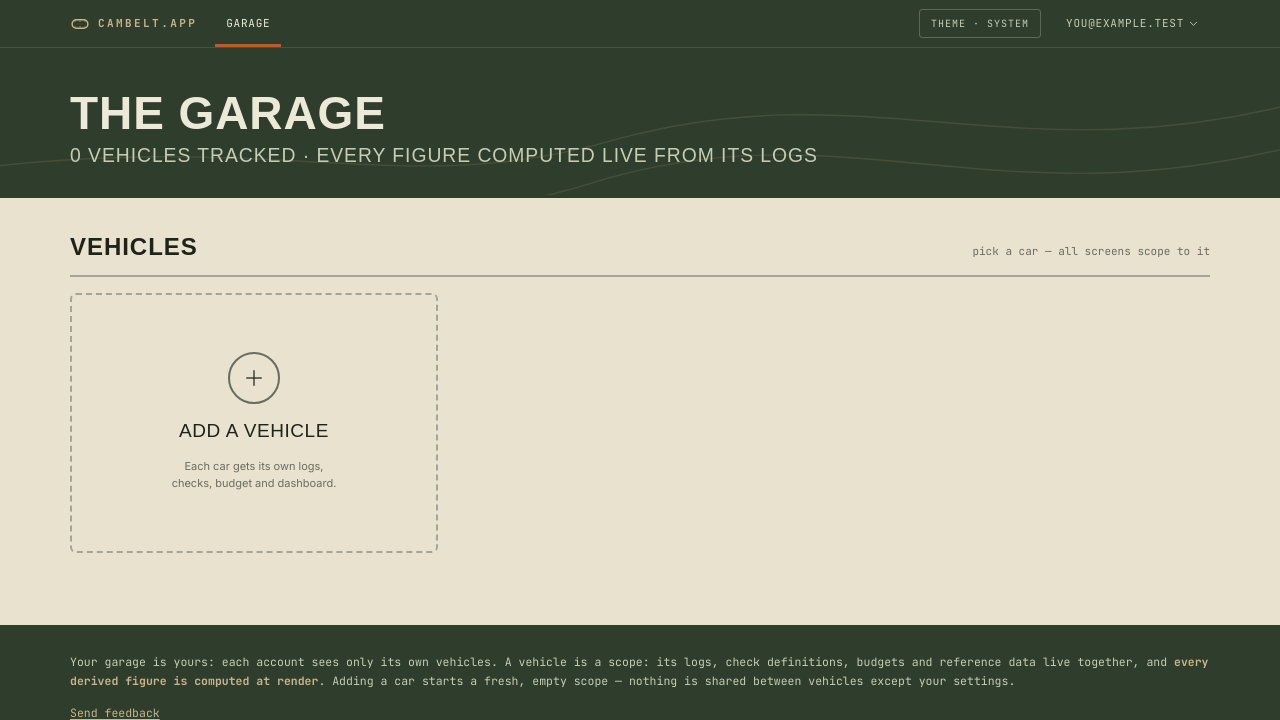
Test: the add-vehicle sheet › defaults to the starter set, and says how many
Click the button "Add a vehicle" at x=254, y=422, box x1=70 y1=292 x2=438 y2=552
(page scrolled)
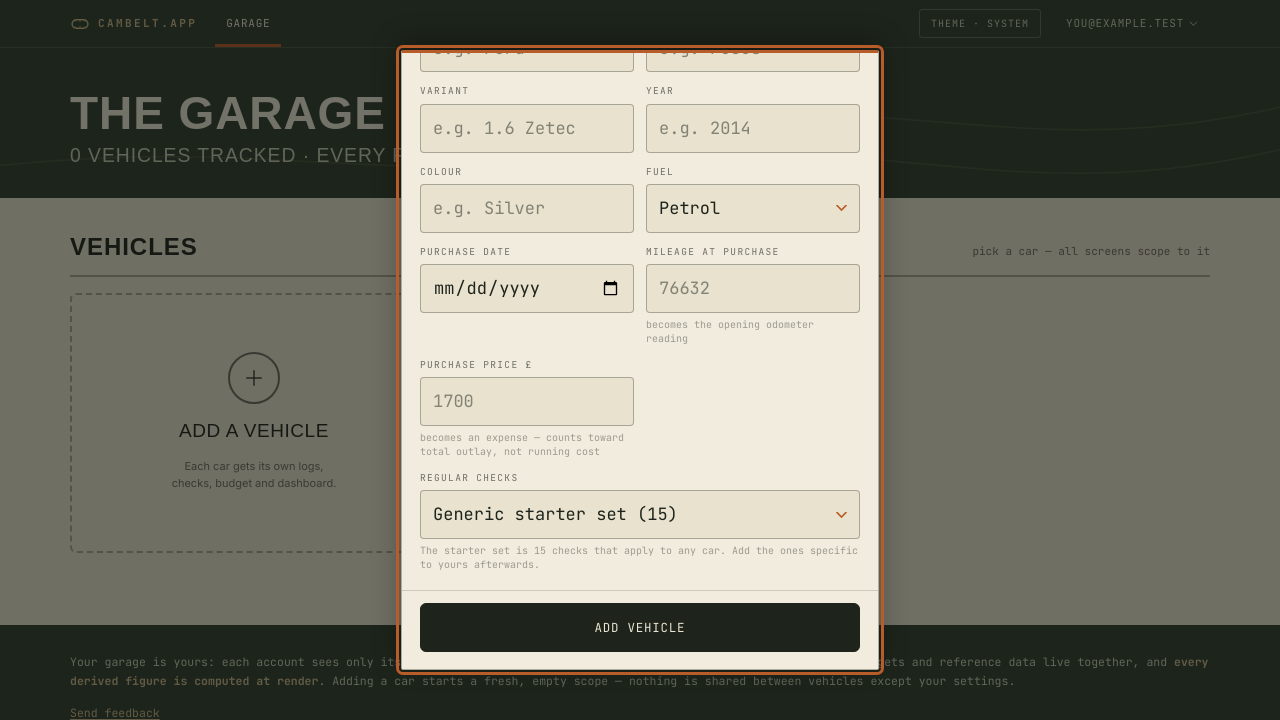
Now the dropdown labelled "Regular checks" shows "Generic starter set (15)", box x1=420 y1=490 x2=860 y2=539
Now the text "starter set is 15 checks that apply to any car" is shown, box x1=420 y1=544 x2=858 y2=571
